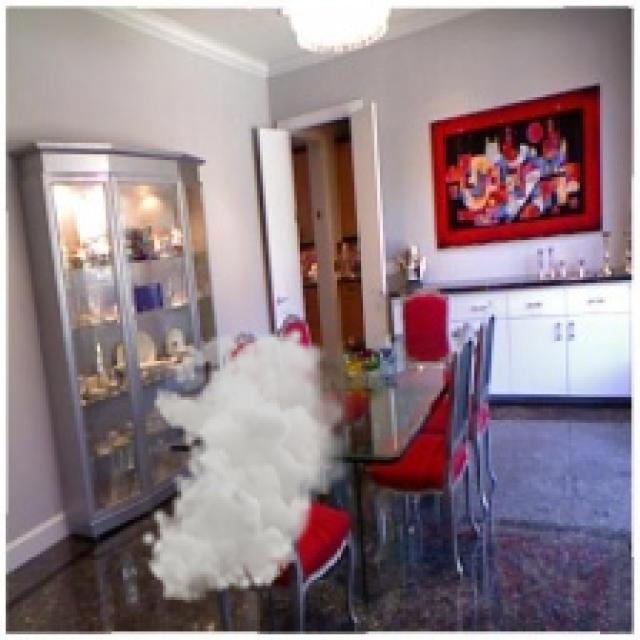smoke: (140, 326, 354, 603)
